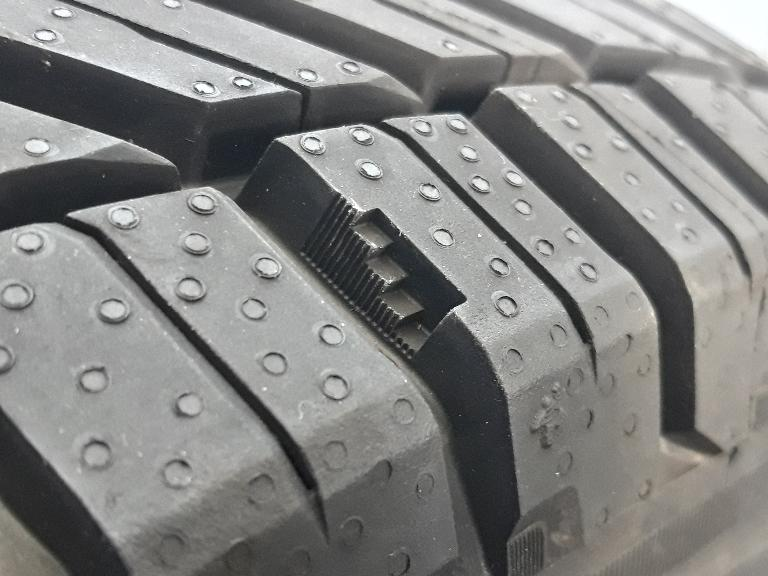temoin:100: (295, 183, 475, 368)
